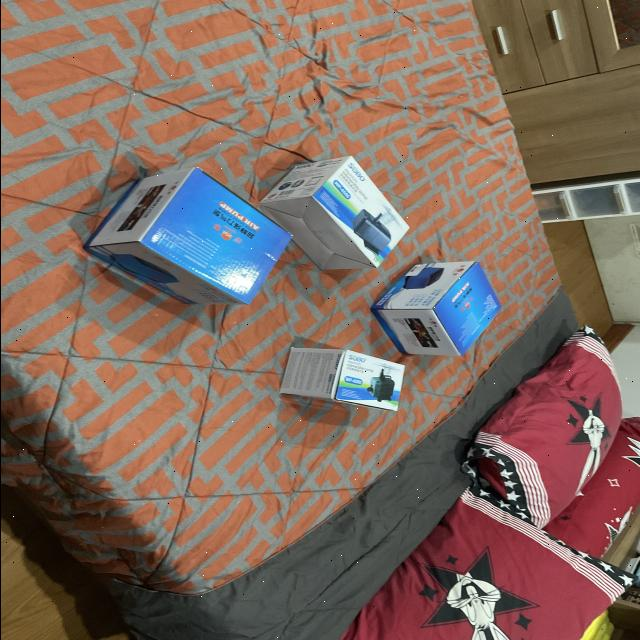SOBO_WP_4200: (266, 148, 421, 266), (268, 338, 412, 420)
YAMANO_LPP_20: (80, 160, 290, 308), (369, 252, 517, 354)
